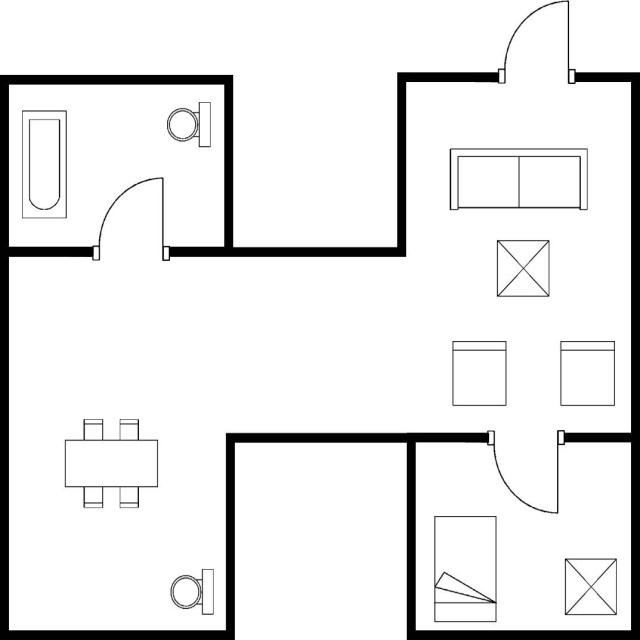bed: (429, 510, 500, 626)
coffee_table: (490, 235, 554, 304), (560, 554, 620, 620)
dining_table: (58, 413, 163, 512)
large_sink: (165, 562, 217, 620), (163, 97, 213, 153)
large_sofa: (444, 144, 591, 214)
small_sofa: (554, 334, 622, 411), (448, 334, 511, 412)
tub: (16, 105, 70, 223)
